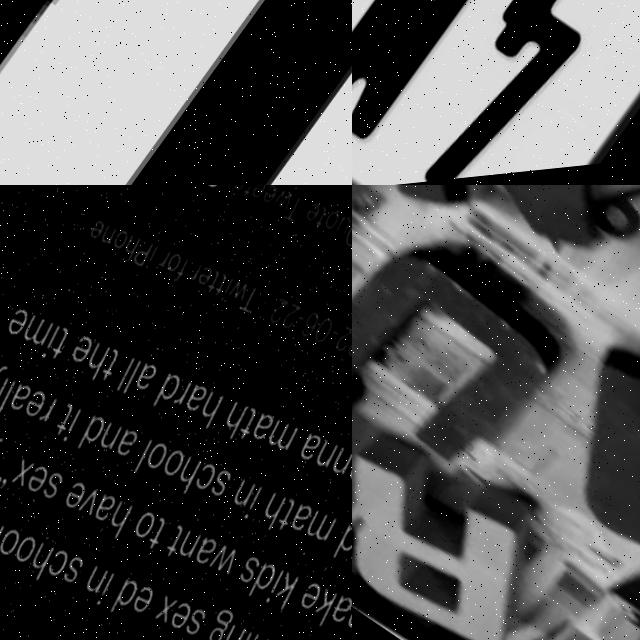0: (179, 185, 213, 193)
2: (295, 318, 325, 353)
4: (392, 0, 609, 185)
5: (165, 185, 199, 188)
A: (523, 323, 640, 633)
D: (0, 0, 352, 185)
M: (352, 0, 514, 157)
R: (352, 404, 569, 640)
U: (352, 185, 589, 507)
